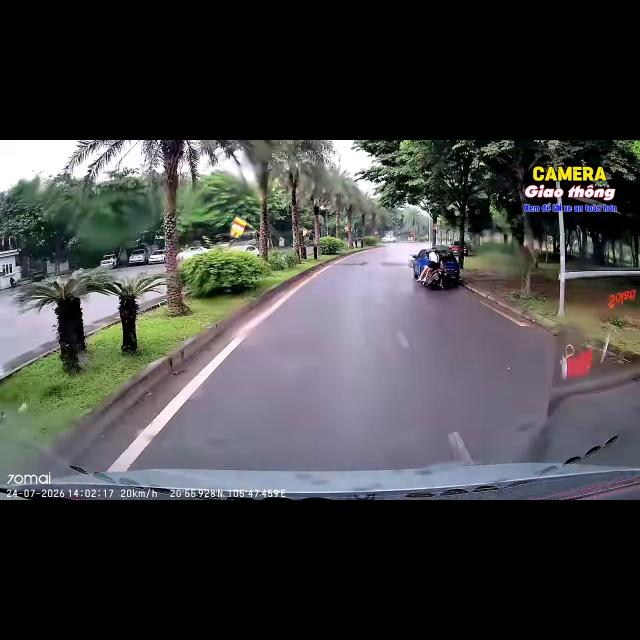car: (412, 246, 459, 286), (177, 246, 209, 261), (229, 245, 258, 255), (129, 249, 147, 265), (100, 254, 117, 268), (148, 249, 165, 263), (381, 236, 395, 242), (462, 243, 468, 256)
motorcycle: (423, 258, 459, 288), (423, 267, 444, 288)
